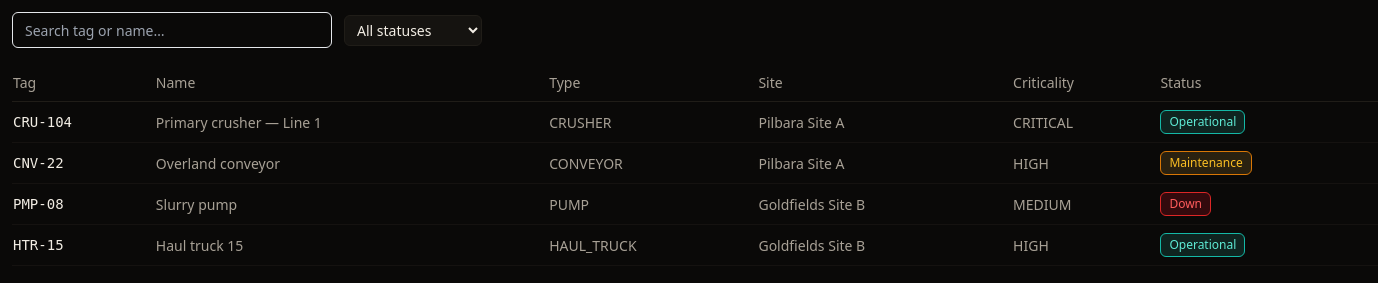
Test: EquipmentListPage › lists all equipment and filters by search text
The image size is (1378, 283).
Check: the link "CRU-104" is shown, box [13,114,72,130]
Check: the link "PMP-08" is shown, box [13,196,64,212]
In the field with placeholder "Search tag or name…": (172,30) [12,12,332,48], type "crusher"
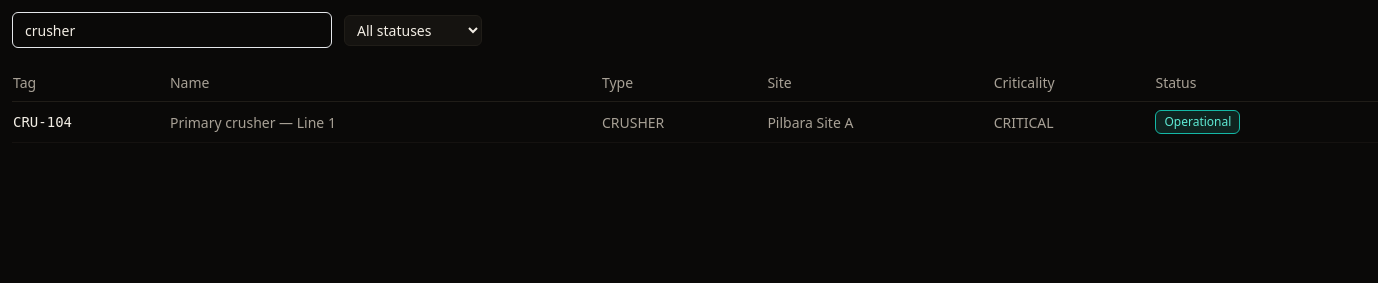
Check: the link "CRU-104" is shown, box [13,114,72,130]
Check: the link "PMP-08" is gone
